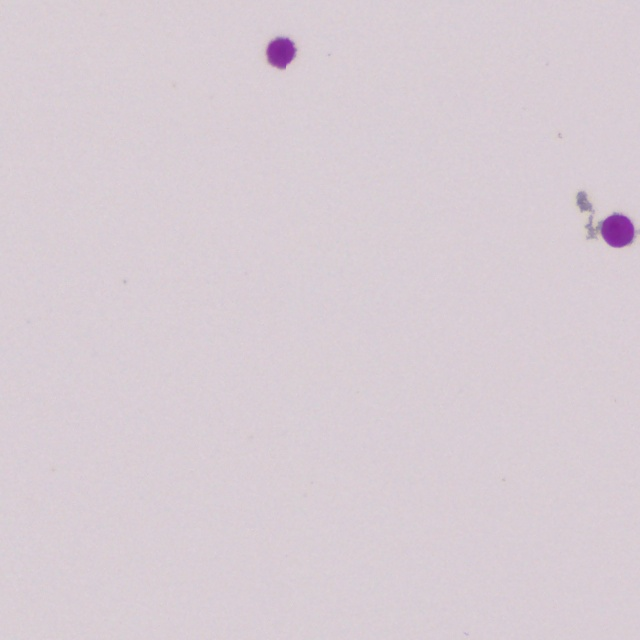viable: (602, 215, 634, 247), (267, 38, 295, 68)
